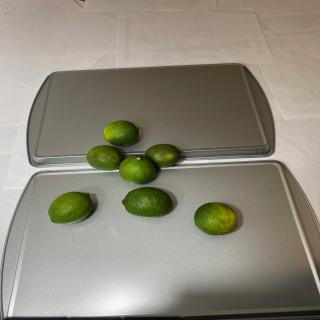Lemon: (121, 186, 173, 218), (193, 202, 238, 235), (48, 192, 93, 224), (118, 155, 156, 185), (103, 120, 140, 146), (86, 145, 123, 171), (145, 143, 181, 168)
